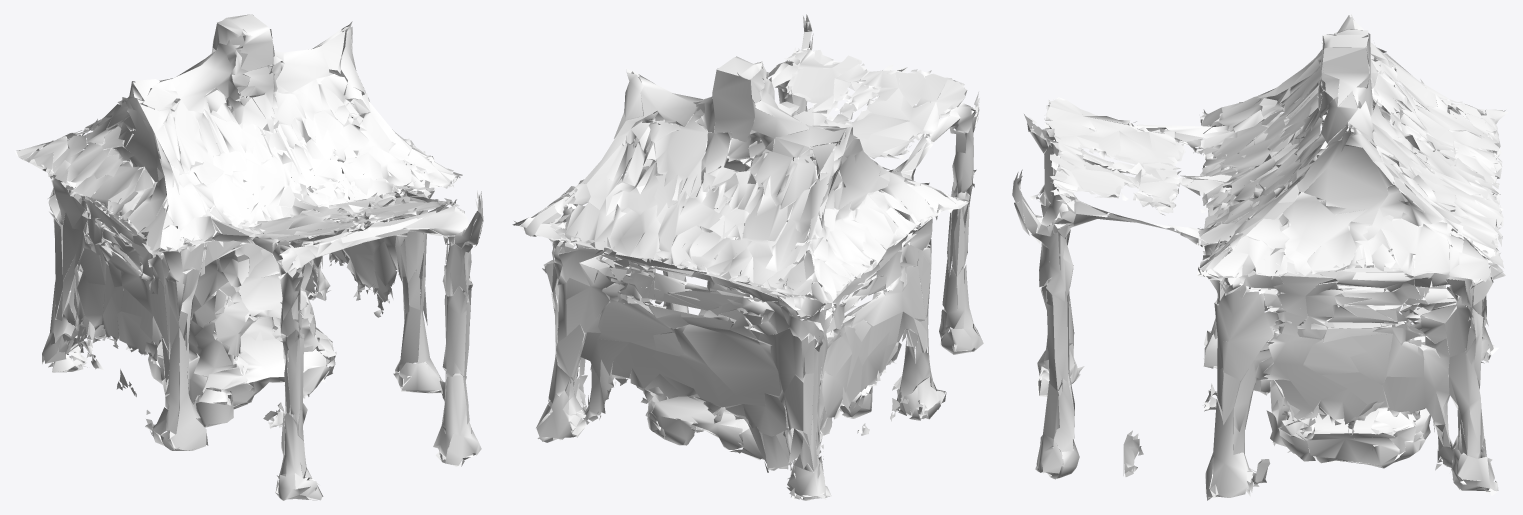
Rendered from forge_smithy_lo.glb.
3 renders of one model, left to right at view 1: azimuth 30°, elevation 25°; view 2: azimuth 150°, elevation 25°; view 3: azimuth 270°, elevation 25°, orthographic. The views are drawn at different scales.
Visible parts, largest first — view 1: output_unwrapped; view 2: output_unwrapped; view 3: output_unwrapped.
Part boxes in pixels (x1,y1,x2,y2): output_unwrapped: (14,14,483,500); output_unwrapped: (512,14,983,500); output_unwrapped: (1012,14,1508,500).
Bounding box in the file's own units: 8.22 × 8.99 × 10.31.
1 material, 1 textured.
